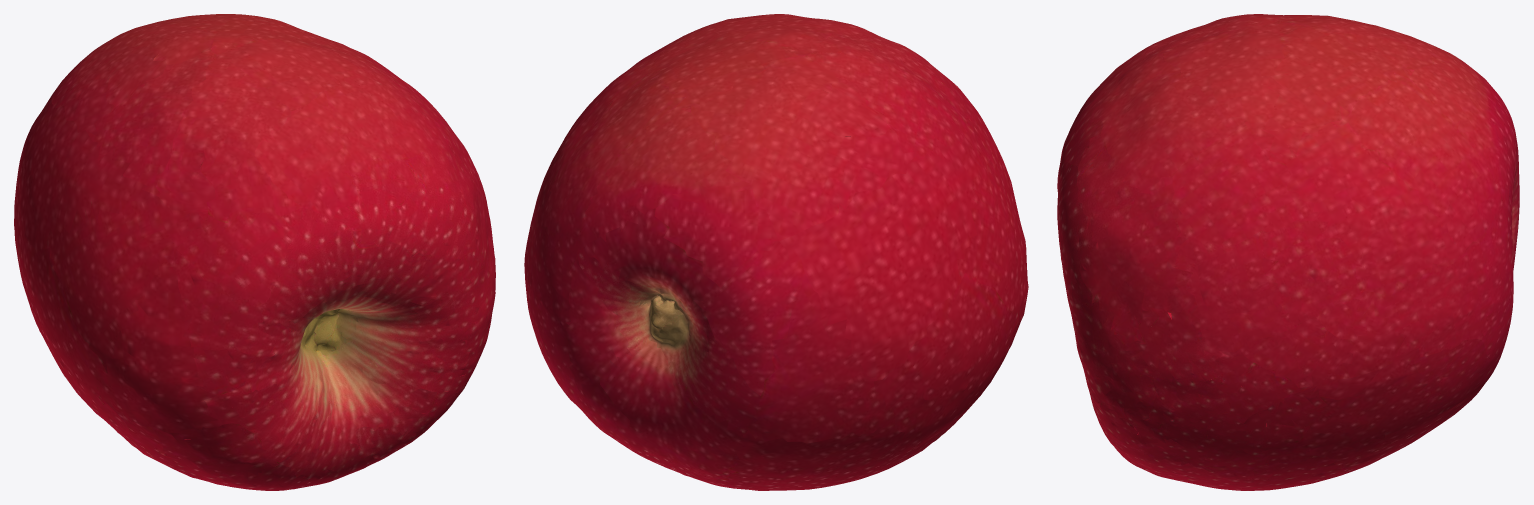
File: sister-4.glb
3 renders of one model, left to right at view 1: azimuth 30°, elevation 25°; view 2: azimuth 150°, elevation 25°; view 3: azimuth 270°, elevation 25°, orthographic. The views are drawn at different scales.
Parts seen in each view (by area): view 1: red apple; view 2: red apple; view 3: red apple.
Part boxes in pixels (x1,y1,x2,y2): red apple: (14,14,495,490); red apple: (524,14,1028,490); red apple: (1057,14,1519,490).
Size of the model in its own units: 0.0834 by 0.0831 by 0.081.
Materials: 1 (1 with a texture image).
